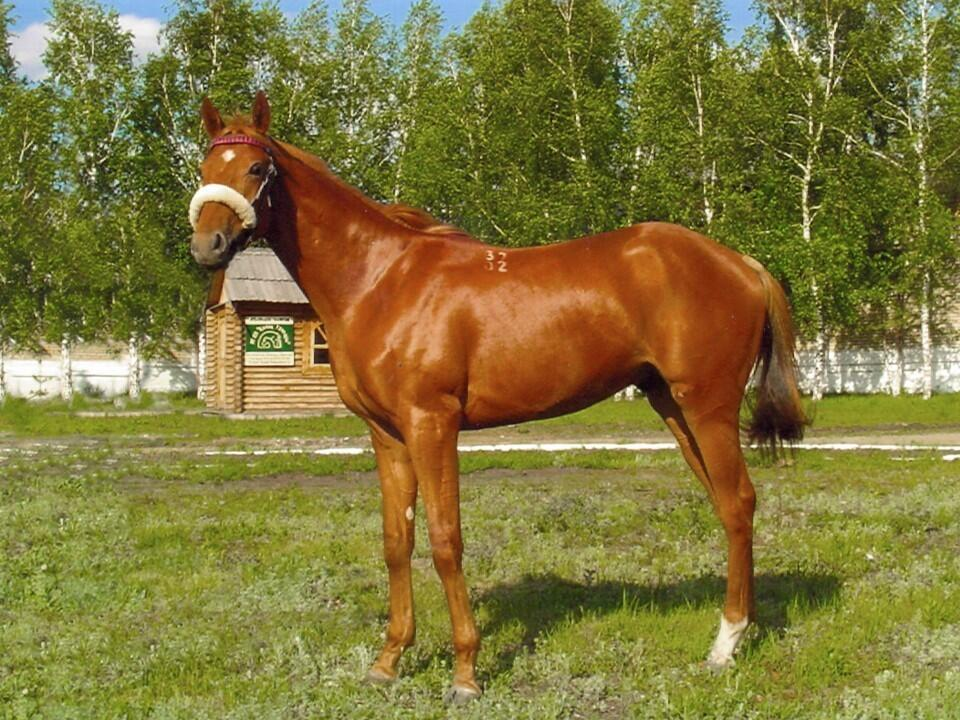horse: (187, 91, 814, 702)
